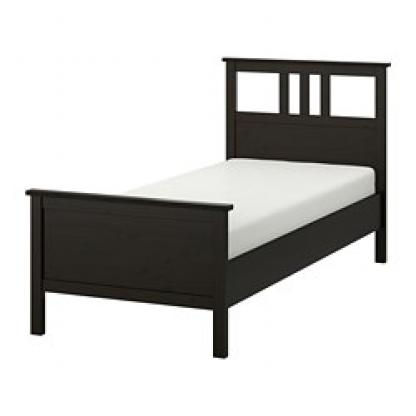Bed: (18, 30, 393, 369)
